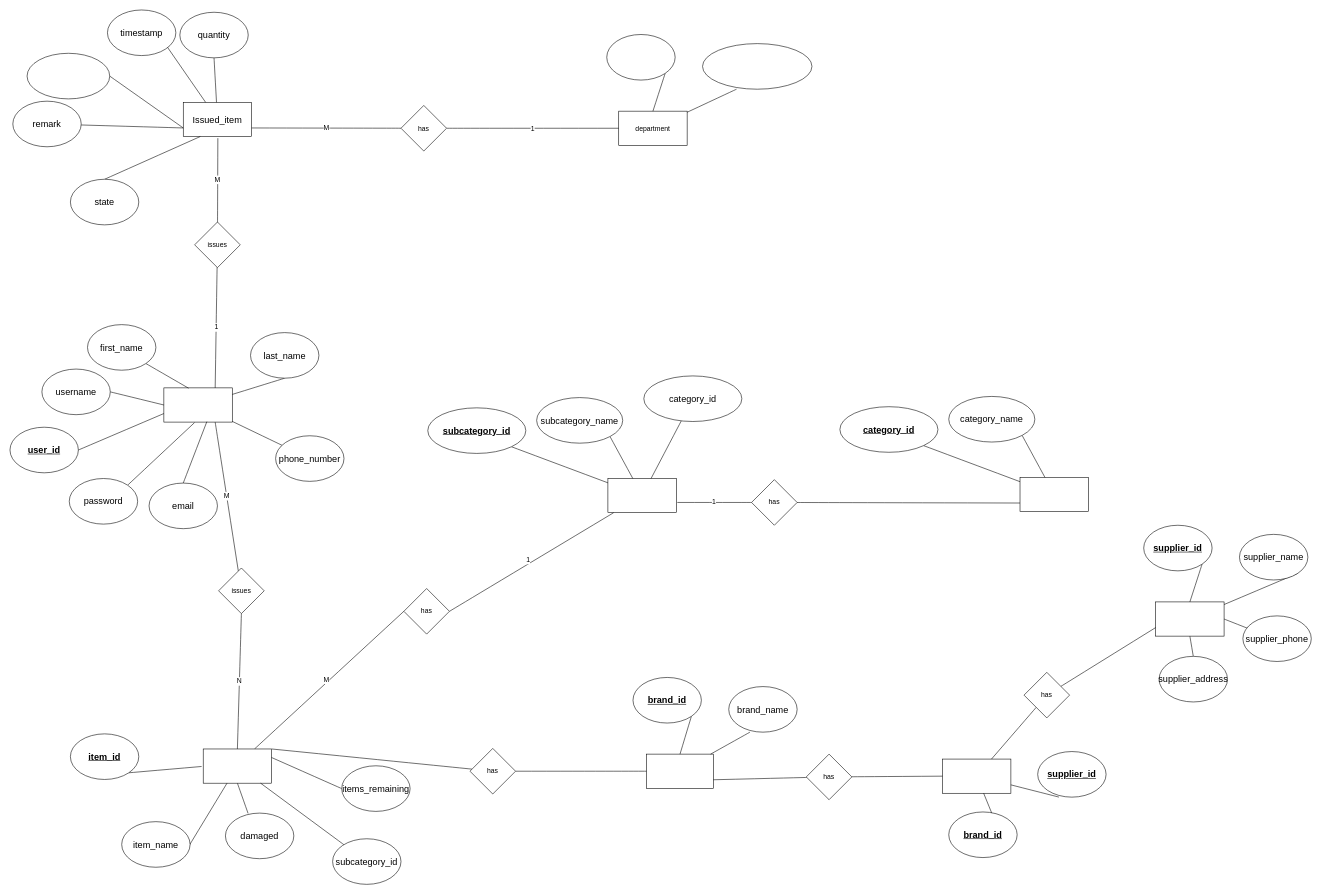
Some shapes in this 1321 by 894 pixel diagram are drawn without their labels. Each missing label, with the centre of its shape:
"Brand" belongs at [679,771].
"Category" belongs at [1053,494].
"department_id" belongs at [640,57].
"department_name" belongs at [757,66].
"issued_item_id" belongs at [68,76].
"Item" belongs at [237,765].
"Subcategory" belongs at [641,495].
"Supplier" belongs at [1189,618].
"Supplier_brand_link" belongs at [976,775].
"User" belongs at [197,404].
